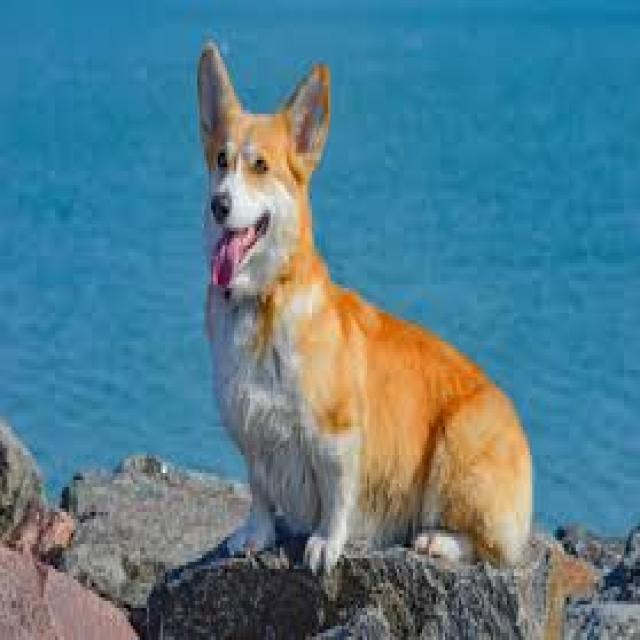CORGI: (188, 14, 547, 596)
